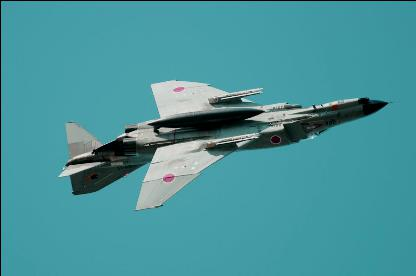F35: (57, 78, 400, 210)
